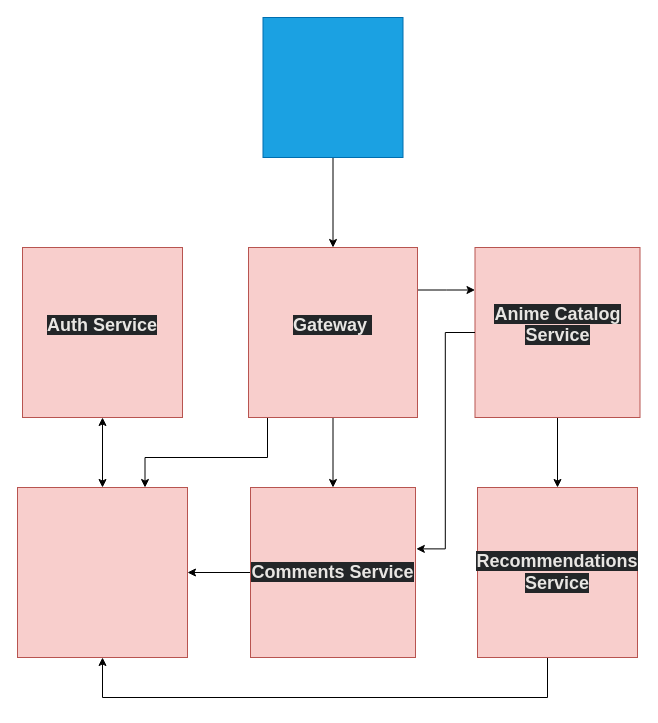
The diagram is 658 pixels wide and 723 high, and some of its shapes have lost their labels. The shapes that lost their labels are listed below. From the top down, each one's box as (x1, y1, x2, y2) in pixels, then its label:
(262, 16, 403, 158): Frontend
(16, 486, 188, 658): User Service
